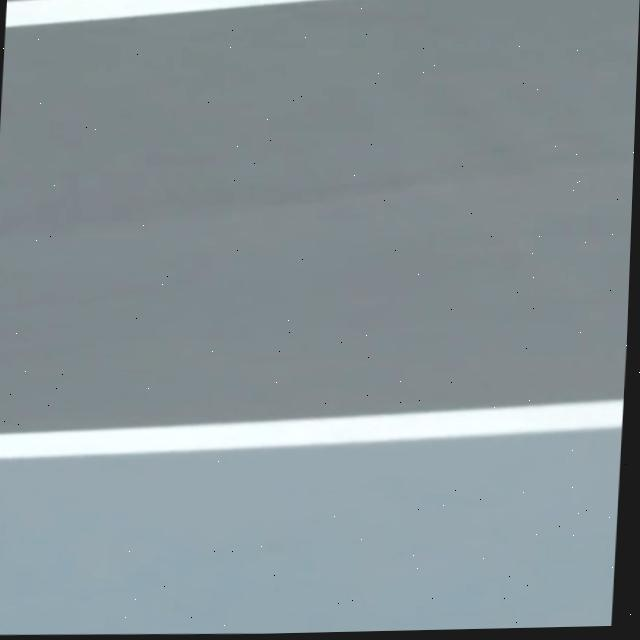center: (4, 0, 312, 28)
left: (0, 400, 623, 459)
